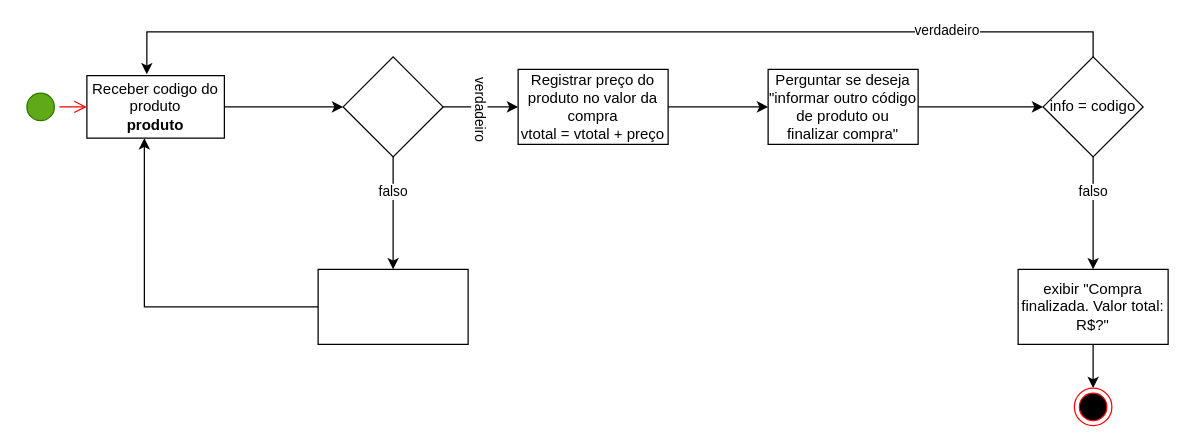
Image size: 1190x448. Some labels were removed from this diagram. The box of each missing label's shape, as (x1, y1, x2, y2) in pixels:
[produto = valido]: (342, 56, 443, 157)
Exibir mensagem "Código inválido: (317, 268, 468, 344)
